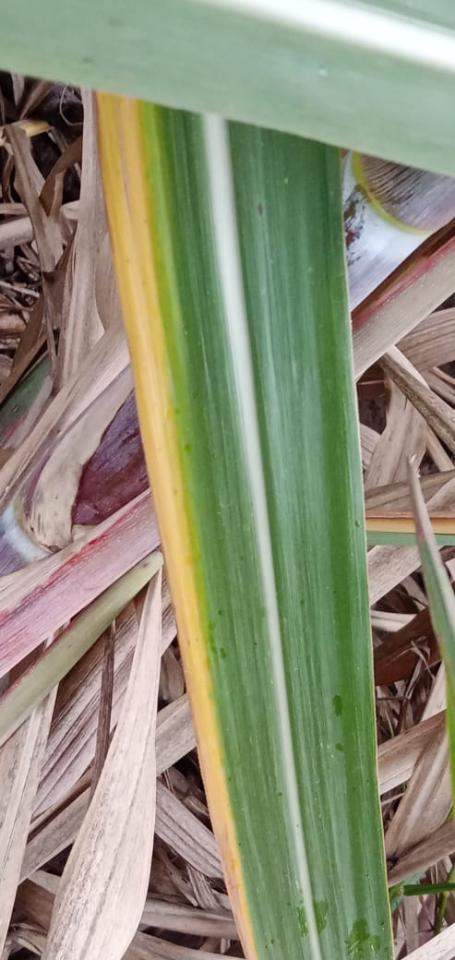Yellow: (93, 90, 257, 959)
